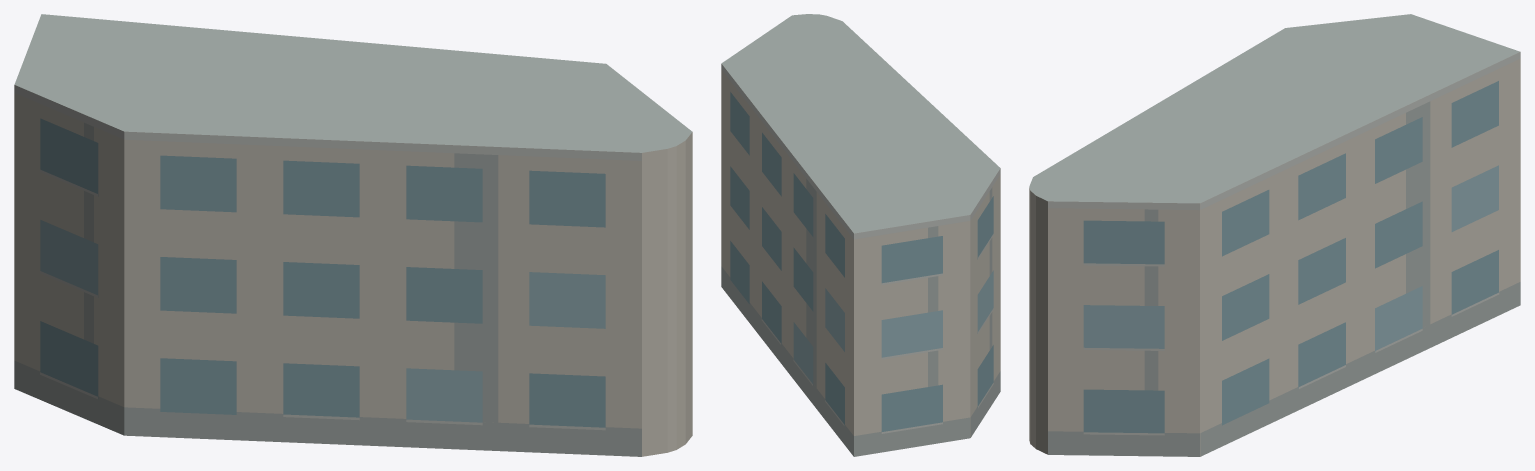
The model's file is residential-b696303e-f246-47ba-bef2-479a171da57e.glb.
The picture shows the model from 3 angles, left to right: view 1: azimuth 30°, elevation 25°; view 2: azimuth 150°, elevation 25°; view 3: azimuth 270°, elevation 25°; orthographic projection. The views are drawn at different scales.
Visible parts, largest first — view 1: residential-b696303e-f246-47ba-bef2-479a171da57e.tmp; view 2: residential-b696303e-f246-47ba-bef2-479a171da57e.tmp; view 3: residential-b696303e-f246-47ba-bef2-479a171da57e.tmp.
Boxes of the visible parts, x1=… form: residential-b696303e-f246-47ba-bef2-479a171da57e.tmp: x1=14, y1=14, x2=692, y2=456; residential-b696303e-f246-47ba-bef2-479a171da57e.tmp: x1=721, y1=14, x2=1000, y2=456; residential-b696303e-f246-47ba-bef2-479a171da57e.tmp: x1=1029, y1=14, x2=1520, y2=456.
Bounding box in the file's own units: 14.68 × 9.15 × 16.08.
